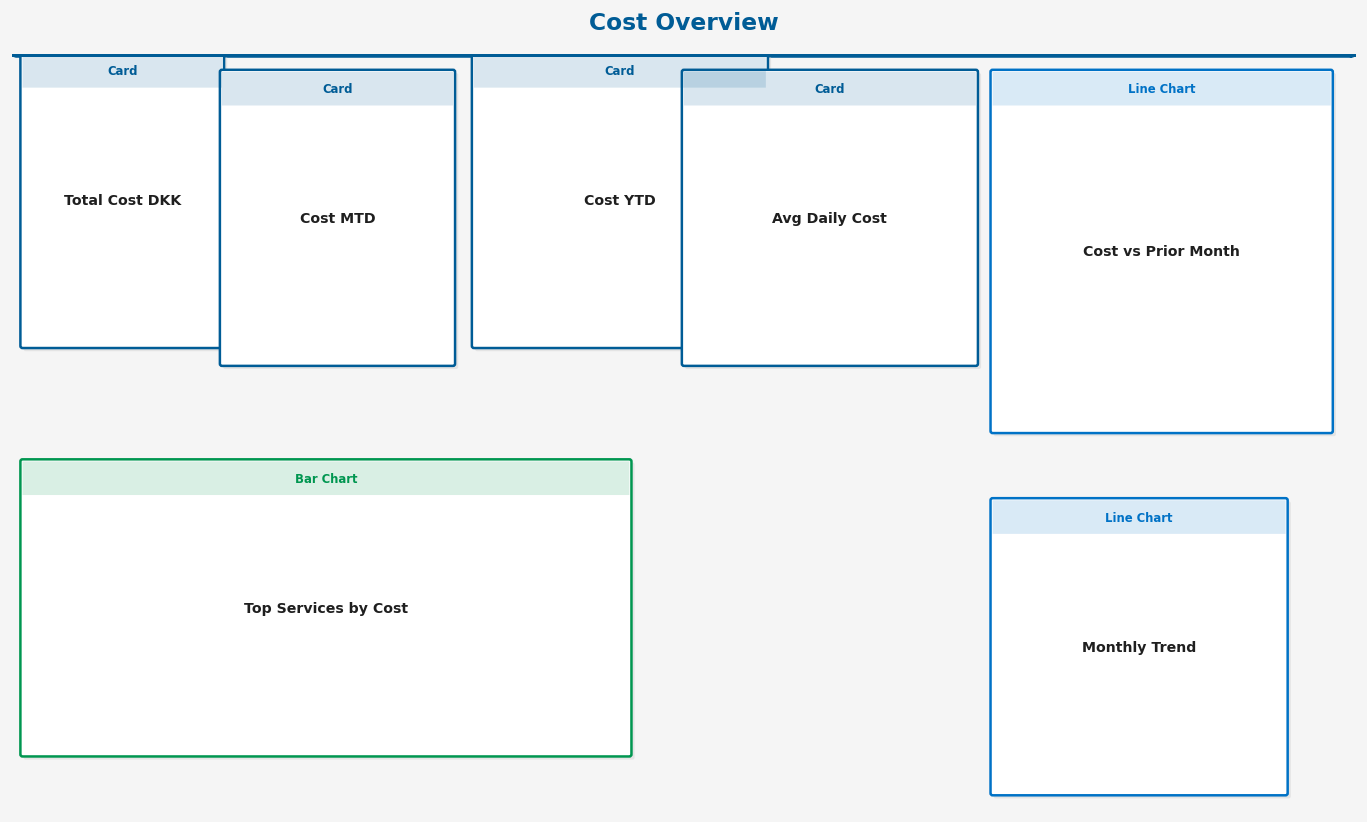

What the dashboard file says about the page in this screenshot:
{"tool":"powerbi","page":{"name":"Cost Overview","canvas":[1280,720],"ordinal":0},"visuals":[{"type":"cardVisual","fields":{"Data":["CostExports.Total Cost DKK"]},"box":[10,0,280,280],"z":0},{"type":"lineChart","fields":{"Category":["DateTable.MonthYear"],"Y":["CostExports.Total Cost"]},"box":[934.7,425.1,279.3,279.3],"z":1000},{"type":"clusteredBarChart","fields":{"Category":["CostExports.meterCategory"],"Y":["CostExports.Total Cost"]},"box":[10.7,388.3,578.6,279.3],"z":2000},{"type":"cardVisual","fields":{"Data":["CostExports.Cost MTD"]},"box":[200,17.1,220,278.6],"z":2001},{"type":"cardVisual","fields":{"Data":["CostExports.Cost YTD"]},"box":[440,0,278.6,278.6],"z":2002},{"type":"cardVisual","fields":{"Data":["CostExports.Avg Daily Cost"]},"box":[640,17.1,278.6,278.6],"z":2003},{"type":"lineChart","fields":{"Category":["DateTable.MonthYear"],"Y":["CostExports.Total Cost","CostExports.Cost Prior Month"]},"box":[934.3,17.1,322.9,342.9],"z":2004}]}

Visuals, with their boxes in screenshot pixels (x1, y1, x2, y2):
cardVisual - CostExports.Total Cost DKK: l=18, t=50, r=313, b=345
lineChart - DateTable.MonthYear x CostExports.Total Cost: l=992, t=498, r=1286, b=792
clusteredBarChart - CostExports.meterCategory x CostExports.Total Cost: l=18, t=459, r=628, b=753
cardVisual - CostExports.Cost MTD: l=218, t=68, r=449, b=361
cardVisual - CostExports.Cost YTD: l=471, t=50, r=764, b=343
cardVisual - CostExports.Avg Daily Cost: l=681, t=68, r=975, b=361
lineChart - DateTable.MonthYear x CostExports.Total Cost: l=991, t=68, r=1331, b=429
